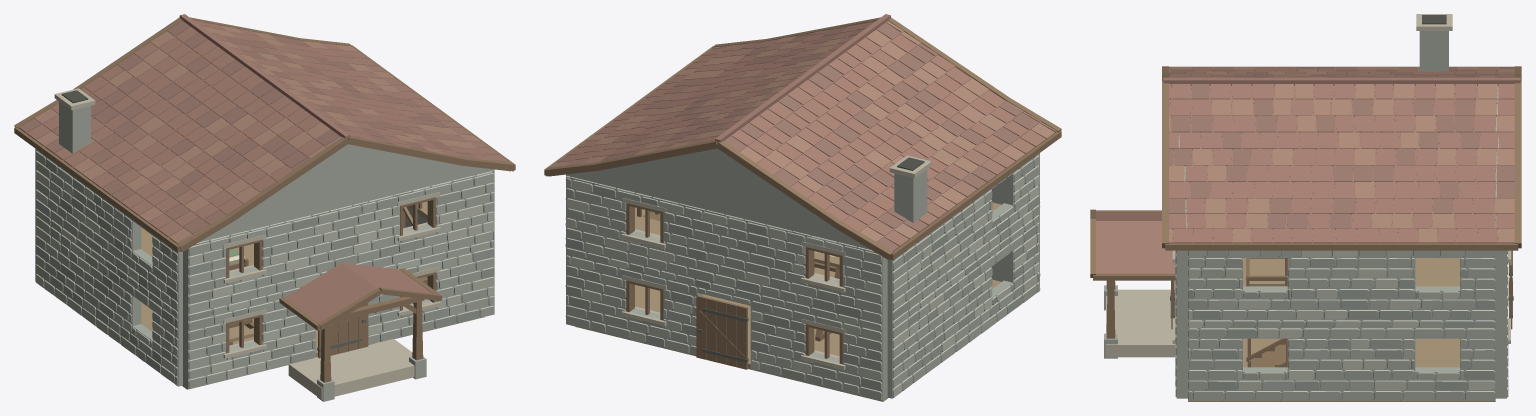
Rendered from holm_guide_house_overhaul_v1.glb.
3 views of the same model, side by side, from view 1: azimuth 30°, elevation 25°; view 2: azimuth 150°, elevation 25°; view 3: azimuth 270°, elevation 25° (orthographic). The views are drawn at different scales.
Parts seen in each view (by area): view 1: Roof, GroundShell, UpperShell, Gable.001, DoorSouthLeaf, GroundFloor, UpperFloor, UpperHearth; view 2: Roof, GroundShell, UpperShell, Gable, DoorNorthLeaf, GroundFloor, UpperHearth, UpperFloor; view 3: Roof, GroundShell, UpperShell, UpperFloor, GroundFloor, StairFlight, UpperHearth, UpperFurnishing.
Part boxes in pixels (x1,y1,x2,y2): Roof: (14,14,515,330); GroundShell: (35,206,494,401); UpperShell: (35,148,494,314); Gable.001: (200,144,494,241); DoorSouthLeaf: (317,302,368,358); GroundFloor: (141,284,484,389); UpperFloor: (141,201,427,265); UpperHearth: (59,124,90,153); Roof: (544,14,1061,260); GroundShell: (565,212,1040,401); UpperShell: (565,153,1040,323); Gable: (566,148,869,249); DoorNorthLeaf: (696,295,748,369); GroundFloor: (576,280,1001,401); UpperHearth: (894,192,927,222); UpperFloor: (635,202,1001,277); Roof: (1090,14,1521,280); GroundShell: (1104,280,1510,400); UpperShell: (1172,250,1510,319); UpperFloor: (1243,258,1459,286); GroundFloor: (1188,338,1495,401); StairFlight: (1246,338,1287,367); UpperHearth: (1419,57,1448,71); UpperFurnishing: (1246,258,1287,286).
Bounding box in the file's own units: 13.23 × 8.74 × 13.53.
